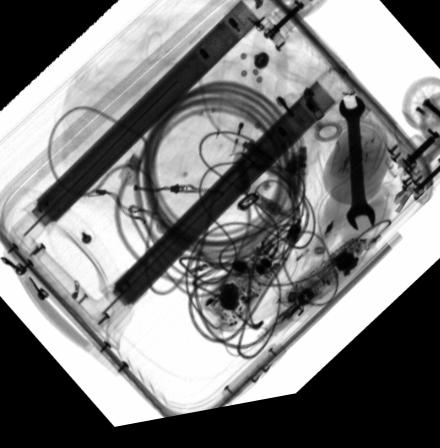Wrench: (336, 108, 375, 245)
